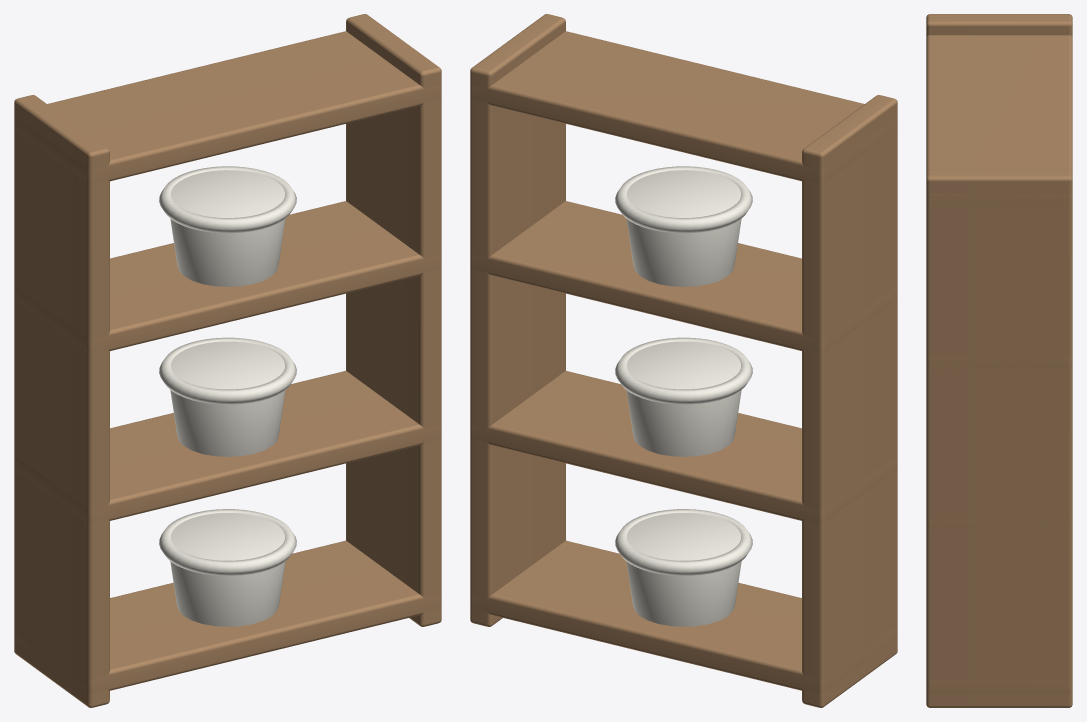
File: atelier-plant-shelf.glb
The picture shows the model from 3 angles, left to right: view 1: azimuth 30°, elevation 25°; view 2: azimuth 150°, elevation 25°; view 3: azimuth 270°, elevation 25°; orthographic projection. The views are drawn at different scales.
Visible parts, largest first — view 1: legs.138, ceramic.055; view 2: legs.138, ceramic.055; view 3: legs.138.
Part boxes in pixels (<box>): legs.138: <box>14,14,441,707</box>; ceramic.055: <box>159,166,296,626</box>; legs.138: <box>470,14,897,707</box>; ceramic.055: <box>615,166,752,626</box>; legs.138: <box>926,14,1072,707</box>.
Bounding box in the file's own units: 0.8 × 1.2 × 0.3.
